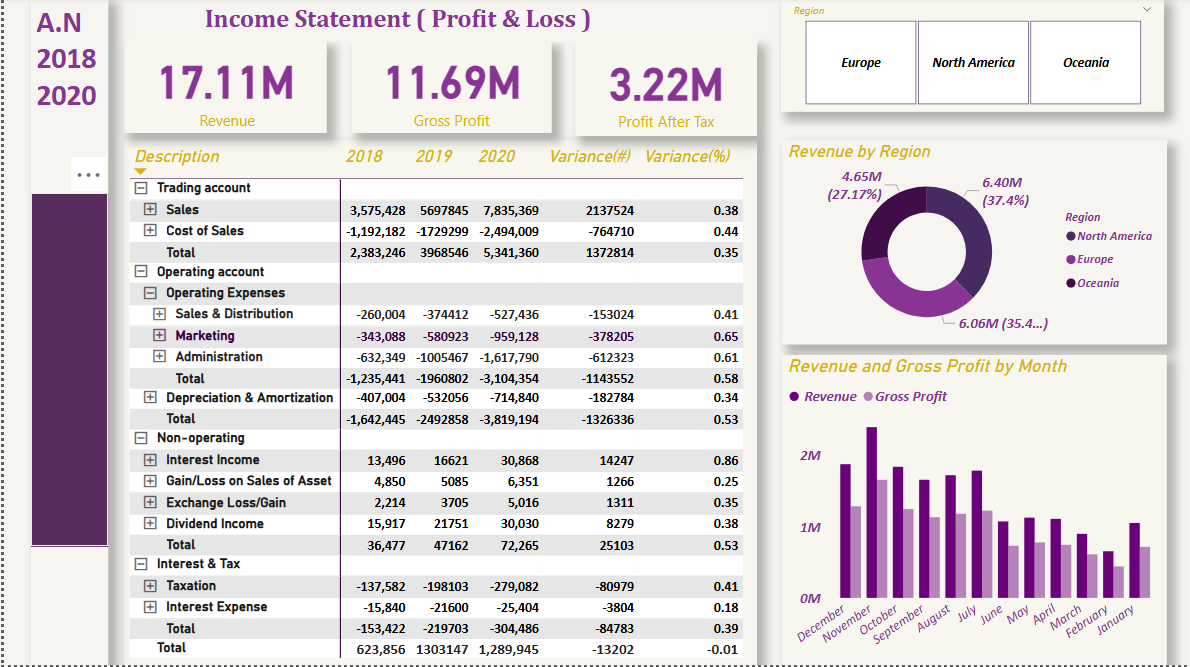

The dashboard page shown, as its layout file describes it:
{"tool":"powerbi","page":{"name":"Dashboard ","canvas":[1280,720],"ordinal":0},"visuals":[{"type":"pivotTable","fields":{"Rows":["tbl_COA.Class","tbl_COA.SubClass","tbl_COA.SubClass2","tbl_COA.Account"],"Values":["tbl_COA.Amount 2018","tbl_COA.Amount 2019","tbl_COA.Amount 2020","tbl_COA.Variance(#)","tbl_COA.Variance(%)"]},"box":[129.5,153.8,683.3,566.7],"z":0},{"type":"card","fields":{"Values":["tbl_COA.Total Amount"]},"box":[129.5,47,218.6,98.8],"z":1000},{"type":"card","fields":{"Values":["tbl_COA.Gross Profit"]},"box":[375.7,47,215.4,98.8],"z":2000},{"type":"card","fields":{"Values":["tbl_COA.Net profit"]},"box":[616.9,47,195.9,102],"z":3000},{"type":"donutChart","fields":{"Category":["tbl_territory.Region"],"Y":["tbl_COA.Gross Revenue"]},"box":[840.4,153.8,414.5,220.2],"z":4000},{"type":"clusteredColumnChart","fields":{"Category":["tbl_Calendar.Date.Variation.Date Hierarchy.Month"],"Y":["tbl_COA.Gross Revenue","tbl_COA.Gross Profit"]},"box":[840.4,385.4,414.5,335.2],"z":5000},{"type":"slicer","fields":{"Values":["tbl_territory.Region"]},"box":[839,0,413.6,122.9],"z":6000},{"type":"textbox","box":[130.4,0,684.1,47.2],"z":7000},{"type":"textbox","box":[28.3,0,83.2,720],"z":8000},{"type":"textbox","box":[28.3,209.8,83.2,381.7],"z":9000}]}

Visuals, with their boxes in screenshot pixels (x1, y1, x2, y2), scaled from the page's 1280x720 canvas onto the 1190x667 screenshot:
pivotTable - tbl_COA.Class x tbl_COA.SubClass: bbox=(120, 142, 756, 666)
card - tbl_COA.Total Amount: bbox=(120, 44, 324, 135)
card - tbl_COA.Gross Profit: bbox=(349, 44, 550, 135)
card - tbl_COA.Net profit: bbox=(574, 44, 756, 138)
donutChart - tbl_territory.Region x tbl_COA.Gross Revenue: bbox=(781, 142, 1167, 346)
clusteredColumnChart - tbl_Calendar.Date.Variation.Date Hierarchy.Month x tbl_COA.Gross Revenue: bbox=(781, 357, 1167, 666)
slicer - tbl_territory.Region: bbox=(780, 0, 1165, 114)
textbox: bbox=(121, 0, 757, 44)
textbox: bbox=(26, 0, 104, 666)
textbox: bbox=(26, 194, 104, 548)
